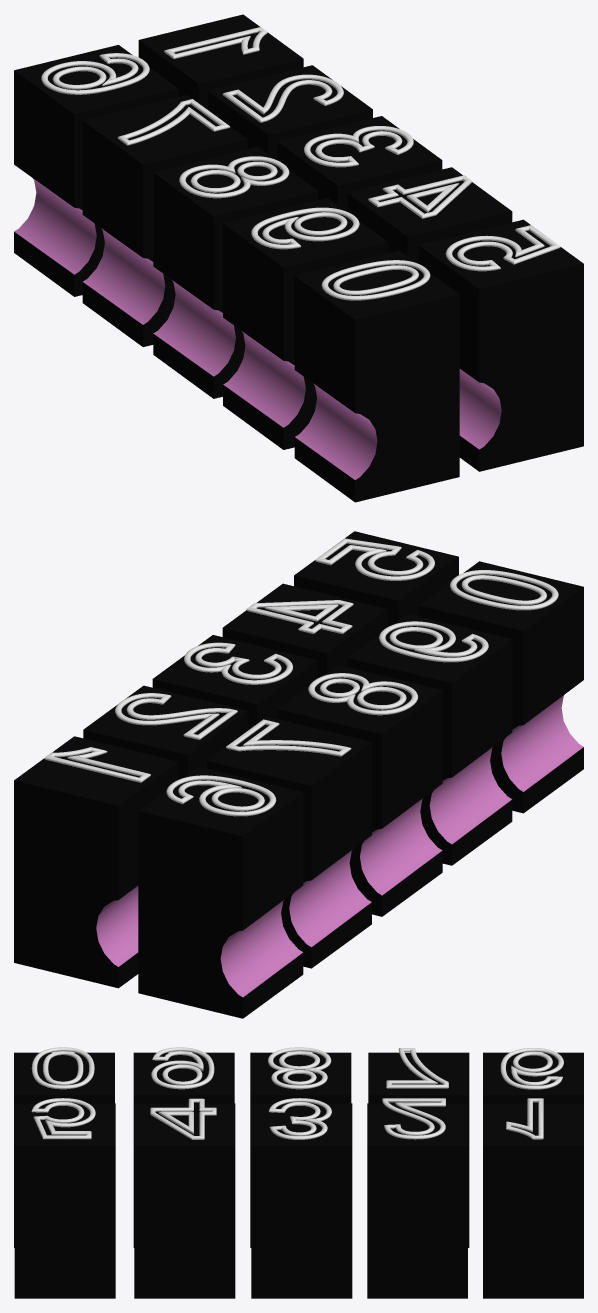
Rendered from Number.fbx.
The picture shows the model from 3 angles, top to bottom: view 1: azimuth 30°, elevation 25°; view 2: azimuth 150°, elevation 25°; view 3: azimuth 270°, elevation 25°; orthographic projection. The views are drawn at different scales.
Parts seen in each view (by area): view 1: ABCWord072, ABCWord067, ABCWord069, ABCWord071, ABCWord070, ABCWord068, ABCWord063, ABCWord066, ABCWord064, ABCWord065, Text072, Text074 (+8 smaller); view 2: ABCWord068, ABCWord063, ABCWord072, ABCWord069, ABCWord070, ABCWord071, ABCWord067, ABCWord066, ABCWord065, ABCWord064, Text072, Text074 (+8 smaller); view 3: ABCWord063, ABCWord066, ABCWord065, ABCWord067, ABCWord064, ABCWord069, ABCWord071, ABCWord072, ABCWord070, ABCWord068, Text074, Text072 (+8 smaller).
Part boxes in pixels (x1,y1,x2,y2): ABCWord072: [294, 250, 459, 502]; ABCWord067: [419, 219, 583, 471]; ABCWord069: [82, 95, 247, 346]; ABCWord071: [223, 198, 388, 449]; ABCWord070: [153, 146, 318, 398]; ABCWord068: [14, 45, 178, 296]; ABCWord063: [138, 14, 303, 109]; ABCWord066: [347, 167, 512, 263]; ABCWord064: [208, 65, 372, 159]; ABCWord065: [277, 116, 442, 211]; Text072: [41, 53, 149, 94]; Text074: [179, 156, 289, 198]; ABCWord068: [138, 767, 303, 1018]; ABCWord063: [14, 736, 178, 988]; ABCWord072: [419, 561, 583, 813]; ABCWord069: [207, 716, 371, 968]; ABCWord070: [277, 665, 442, 916]; ABCWord071: [347, 614, 512, 865]; ABCWord067: [294, 531, 458, 626]; ABCWord066: [222, 583, 387, 677]; ABCWord065: [152, 635, 317, 729]; ABCWord064: [83, 685, 248, 779]; Text072: [166, 775, 276, 816]; Text074: [308, 673, 418, 715]; ABCWord063: [483, 1103, 583, 1298]; ABCWord066: [134, 1103, 235, 1298]; ABCWord065: [251, 1103, 352, 1298]; ABCWord067: [14, 1103, 115, 1298]; ABCWord064: [367, 1103, 467, 1298]; ABCWord069: [368, 1052, 469, 1247]; ABCWord071: [133, 1052, 234, 1247]; ABCWord072: [14, 1052, 114, 1247]; ABCWord070: [250, 1052, 351, 1247]; ABCWord068: [483, 1052, 583, 1103]; Text074: [268, 1047, 331, 1089]; Text072: [500, 1048, 563, 1089].
Bounding box in the file's own units: 8.45 × 6.7 × 21.78.
